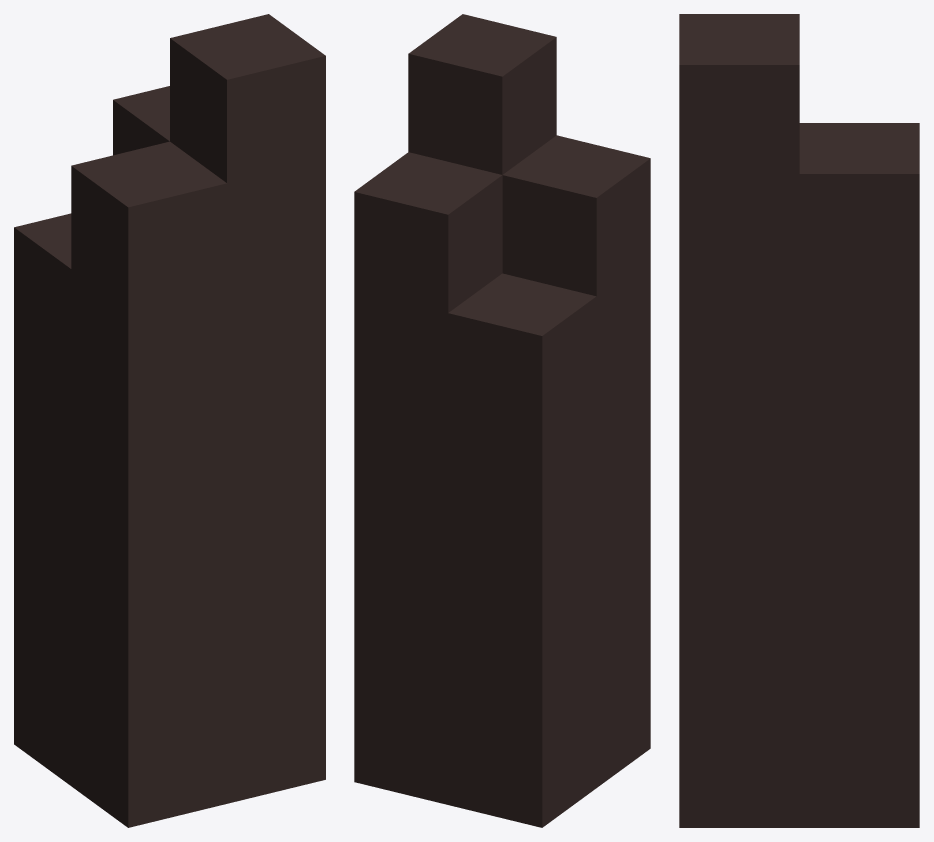
The model's file is fox__leg_fl.glb.
The picture shows the model from 3 angles, left to right: view 1: azimuth 30°, elevation 25°; view 2: azimuth 150°, elevation 25°; view 3: azimuth 270°, elevation 25°; orthographic projection. The views are drawn at different scales.
Visible parts, largest first — view 1: fox__leg_fl; view 2: fox__leg_fl; view 3: fox__leg_fl.
Part boxes in pixels (x1=…): fox__leg_fl: x1=14, y1=14, x2=325, y2=827; fox__leg_fl: x1=354, y1=14, x2=650, y2=827; fox__leg_fl: x1=679, y1=14, x2=919, y2=827.
Bounding box in the file's own units: 0.2 × 0.7 × 0.2.
Materials: 1 (1 with a texture image).
